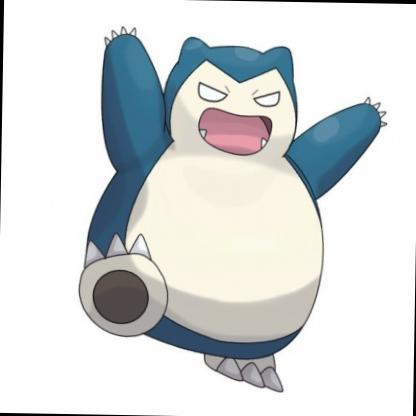Snorlax: (1, 1, 416, 342)
